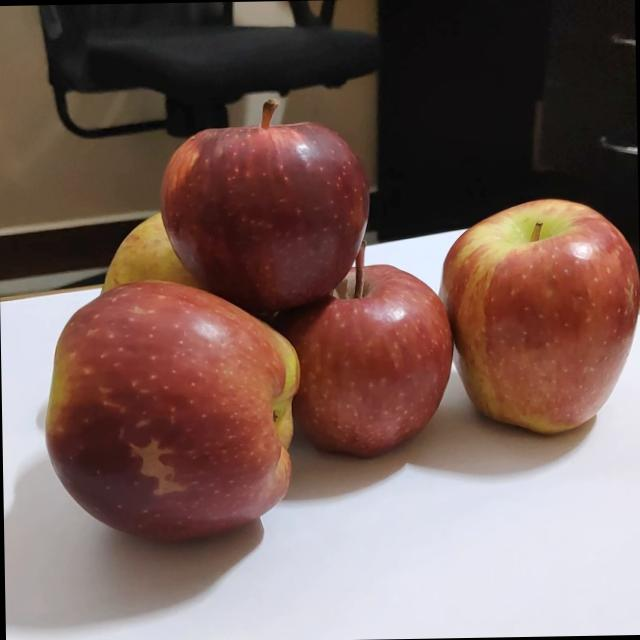apple: (36, 274, 306, 546), (156, 92, 372, 318), (439, 195, 640, 433), (267, 235, 455, 463), (97, 203, 240, 316)
